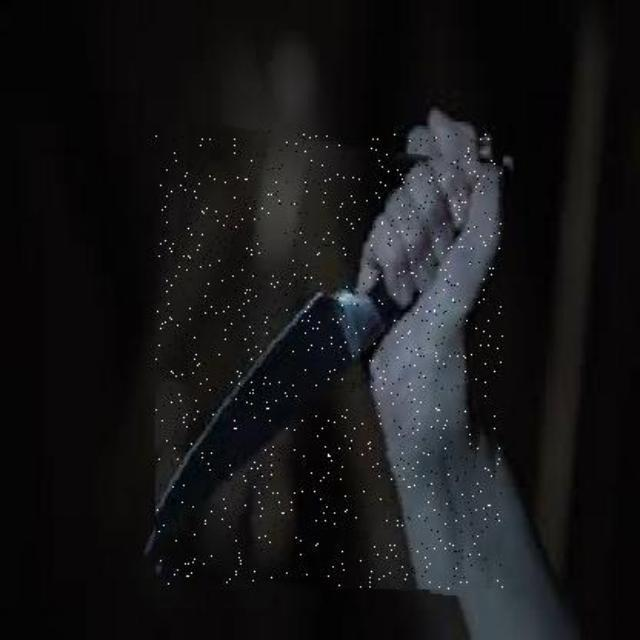Knife: (155, 131, 502, 589)
